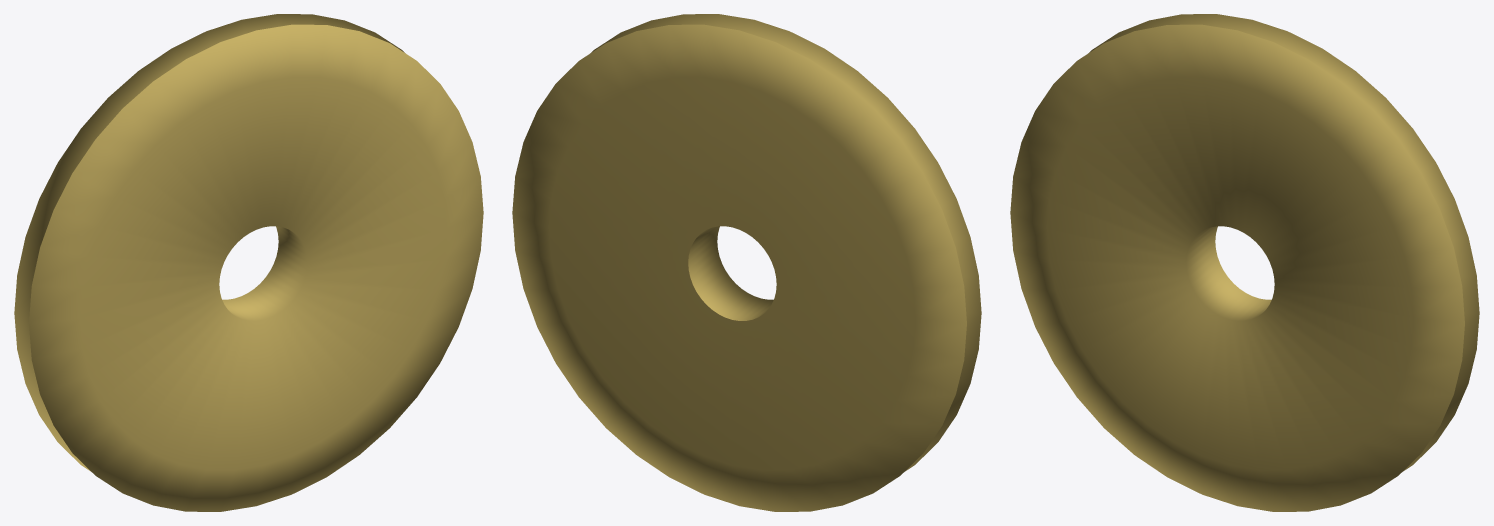
Rendered from air-pump-pulley.glb.
3 renders of one model, left to right at view 1: azimuth 30°, elevation 25°; view 2: azimuth 150°, elevation 25°; view 3: azimuth 330°, elevation 25°, orthographic.
Visible parts, largest first — view 1: air-pump-pulley:yellowZinc; view 2: air-pump-pulley:yellowZinc; view 3: air-pump-pulley:yellowZinc.
Boxes of the visible parts, x1=… form: air-pump-pulley:yellowZinc: x1=14, y1=14, x2=483, y2=511; air-pump-pulley:yellowZinc: x1=512, y1=14, x2=981, y2=511; air-pump-pulley:yellowZinc: x1=1010, y1=14, x2=1479, y2=511.
Bounding box in the file's own units: 144 × 144 × 16.
